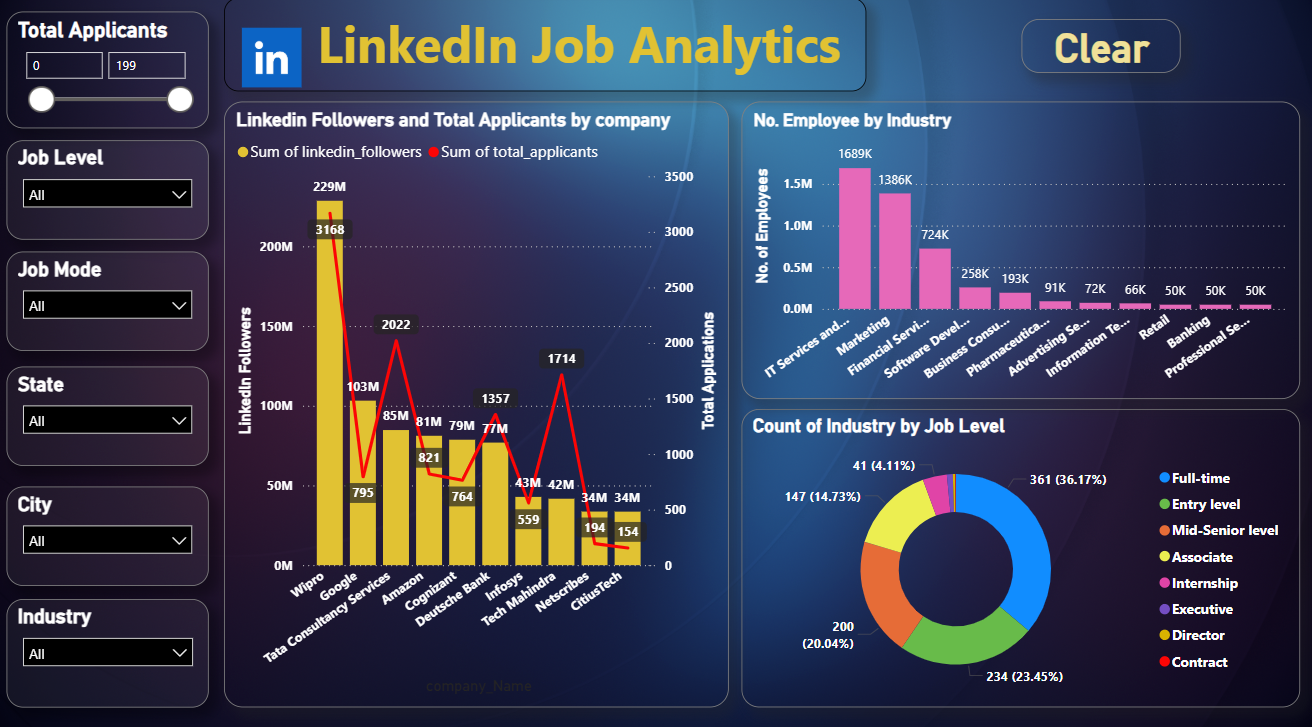

The dashboard page shown, as its layout file describes it:
{"tool":"powerbi","page":{"name":"Analysis","canvas":[1280,720],"ordinal":2},"visuals":[{"type":"slicer","title":"Total Applicants","fields":{"Values":["Dataframe of Linkdin data Analysis.total_applicants"]},"box":[12.3,16.5,194.9,112.5],"z":0},{"type":"slicer","title":"Job Level","fields":{"Values":["Dataframe of Linkdin data Analysis.Job_Level"]},"box":[12.3,141.3,194.9,96.1],"z":1000},{"type":"slicer","title":"Job Mode","fields":{"Values":["project_file.Job_mode"]},"box":[12.3,248.4,194.9,96.1],"z":2000},{"type":"slicer","title":"State","fields":{"Values":["Dataframe of Linkdin data Analysis.State"]},"box":[12.3,359.5,194.9,96.1],"z":3000},{"type":"slicer","title":"City","fields":{"Values":["Dataframe of Linkdin data Analysis.City"]},"box":[12.3,474.8,194.9,96.1],"z":4000},{"type":"slicer","title":"Industry ","fields":{"Values":["Dataframe of Linkdin data Analysis.industry"]},"box":[12.1,583.9,195.4,105],"z":5000},{"type":"textbox","box":[222.3,4.1,620.2,90.6],"z":6000},{"type":"image","box":[233.3,27.4,70,67.2],"z":7000},{"type":"actionButton","title":"Clear","box":[991.7,24.1,153.2,51.9],"z":9000},{"type":"donutChart","title":"Count of Industry by Job Level","fields":{"Category":["project_file.Job_Level"],"Y":["CountNonNull(project_file.industry)"]},"box":[721.8,400.7,539.3,288.2],"z":9001},{"type":"lineClusteredColumnComboChart","title":"Linkedin Followers and Total Applicants by company","fields":{"Category":["project_file.company_Name"],"Y":["Sum(project_file.linkedin_followers)"],"Y2":["Sum(project_file.total_applicants)"]},"box":[222.3,104.3,487.1,584.6],"z":9002},{"type":"clusteredColumnChart","title":"No. Employee by Industry ","fields":{"Category":["project_file.industry"],"Y":["Sum(project_file.employees_count)"]},"box":[721.5,103.8,539.3,287.1],"z":9003}]}

Visuals, with their boxes in screenshot pixels (x1, y1, x2, y2), scaled from the page's 1280x720 canvas onto the 1312x727 screenshot:
"Total Applicants" slicer: [left=13, top=17, right=212, bottom=130]
"Job Level" slicer: [left=13, top=143, right=212, bottom=240]
"Job Mode" slicer: [left=13, top=251, right=212, bottom=348]
"State" slicer: [left=13, top=363, right=212, bottom=460]
"City" slicer: [left=13, top=479, right=212, bottom=576]
"Industry " slicer: [left=12, top=590, right=213, bottom=696]
textbox: [left=228, top=4, right=864, bottom=96]
image: [left=239, top=28, right=311, bottom=96]
"Clear" actionButton: [left=1016, top=24, right=1174, bottom=77]
"Count of Industry by Job Level" donutChart: [left=740, top=405, right=1293, bottom=696]
"Linkedin Followers and Total Applicants by company" lineClusteredColumnComboChart: [left=228, top=105, right=727, bottom=696]
"No. Employee by Industry " clusteredColumnChart: [left=740, top=105, right=1292, bottom=395]
